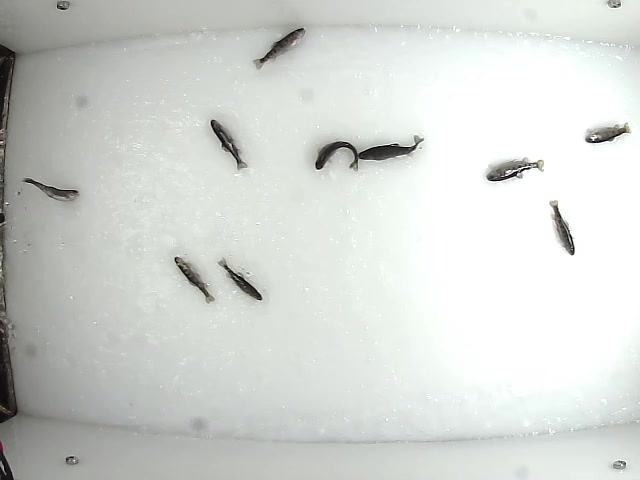fish: (251, 23, 308, 71), (170, 254, 218, 307), (215, 256, 265, 302), (356, 132, 427, 163), (209, 117, 247, 171), (16, 176, 80, 204), (313, 138, 363, 172), (547, 198, 575, 256), (484, 156, 544, 183), (584, 120, 631, 146)
